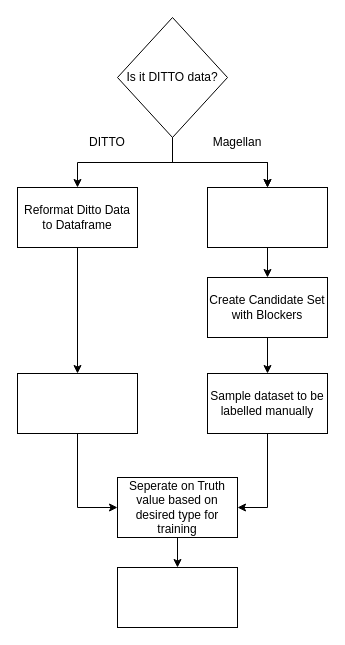
This 345x645 diagram has some shape labels left out. The centre of each missing label's shape, as x and y in pixels:
"Conjoin tables together with Truth" goes at [77,403].
"Load Table data as normal" goes at [267,217].
"Train CTGAN model on Sample Set" goes at [177,597].
